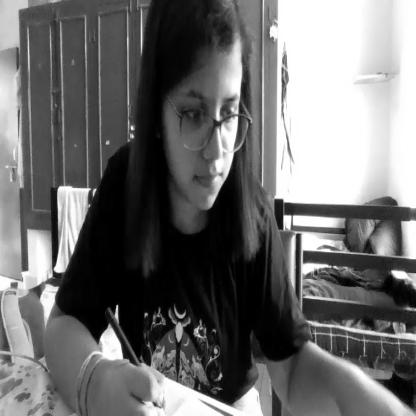Distracted: (148, 2, 254, 211)
